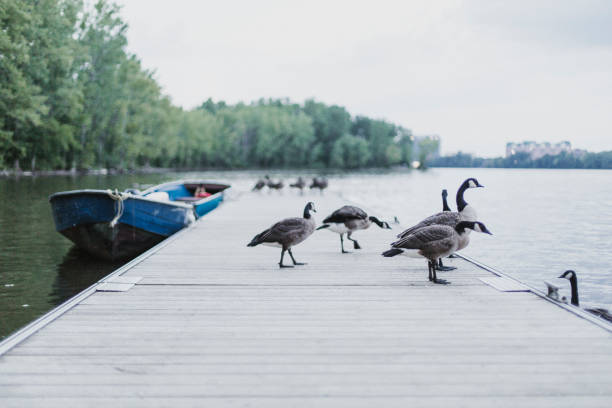goose: (377, 219, 495, 284), (244, 195, 325, 279), (310, 201, 397, 261), (414, 177, 495, 226), (557, 268, 612, 325)
